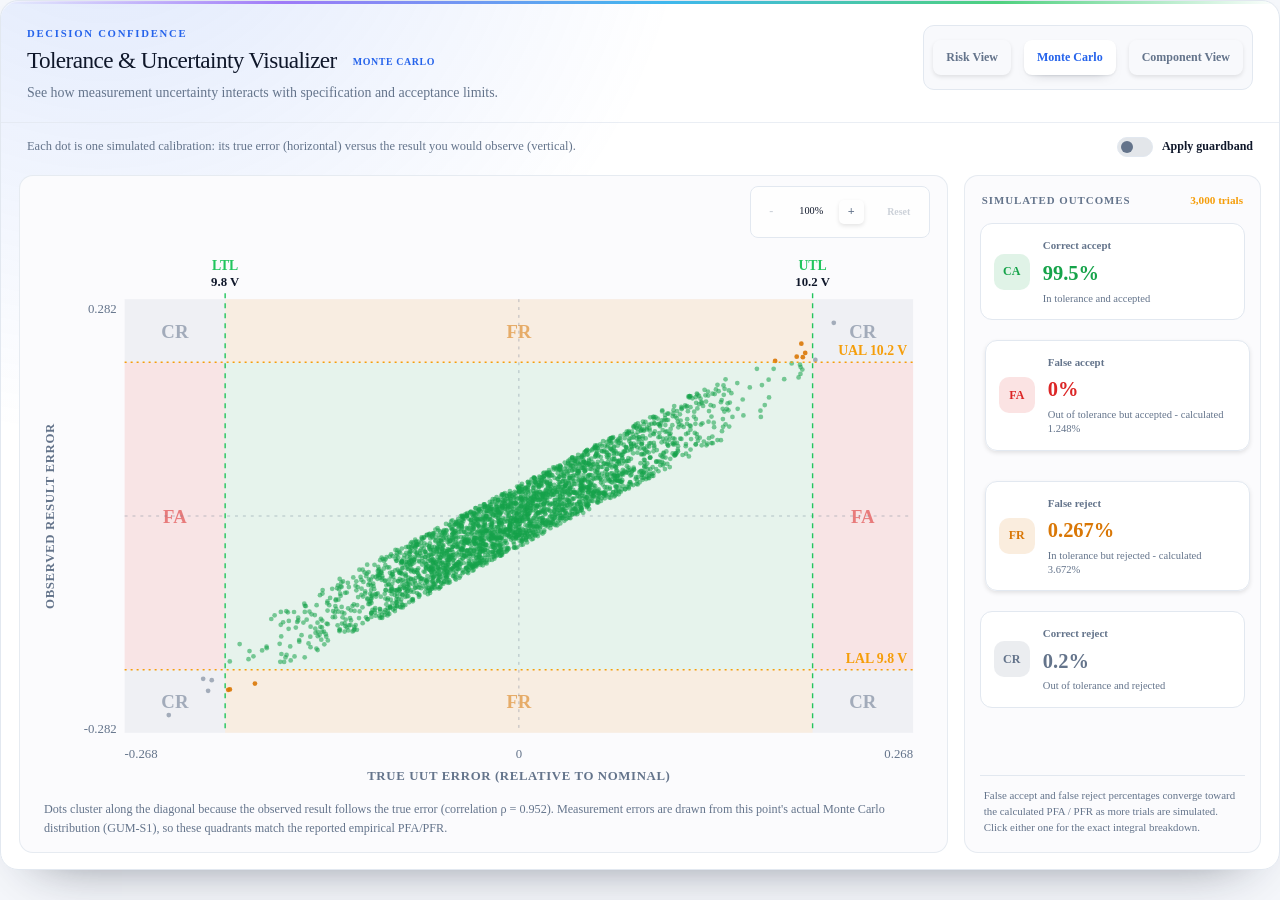
Test: monte carlo view simulates decision outcomes
This screenshot has width=1280, height=900.
Expected: the text "3,000 trials" is shown, top-left (1190, 192), bottom-right (1243, 210)
Expected: the text "Monte Carlo" is shown, top-left (353, 56), bottom-right (435, 67)
Note: Guardband moves the acceptance limits in the simulation too.
Click the checkbox labelled "Apply guardband".
click(1185, 147)  # box top-left (1117, 137), bottom-right (1253, 157)
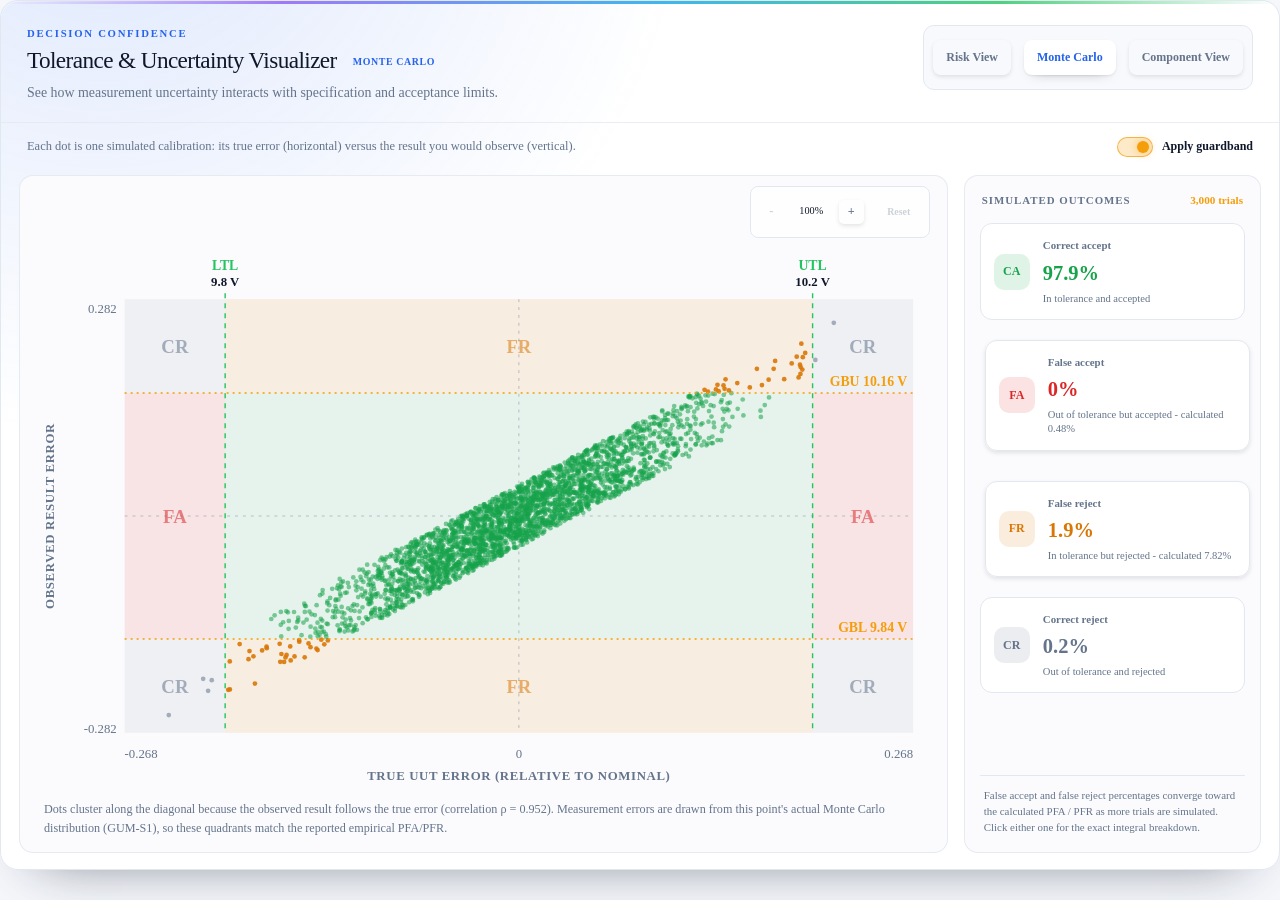
Expected: the text "Out of tolerance but accepted - calculated 0.48%" is shown, top-left (1048, 408), bottom-right (1236, 436)
